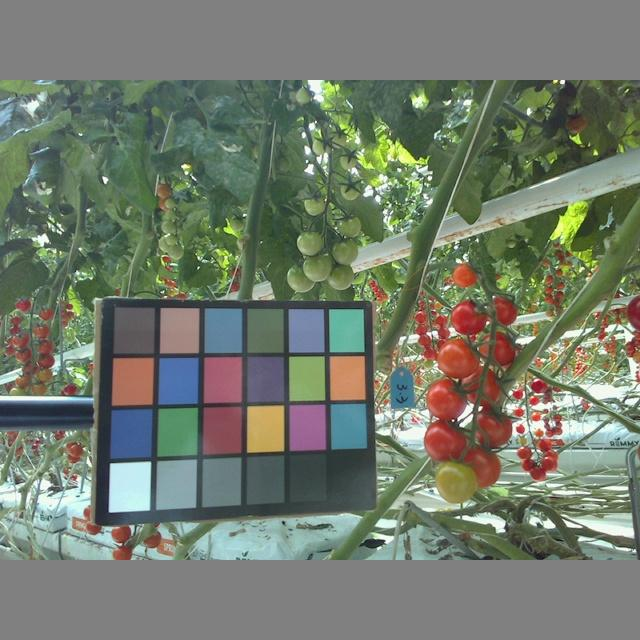green: (435, 461, 478, 506), (287, 264, 319, 293), (329, 239, 360, 267), (325, 262, 353, 292), (302, 254, 331, 281), (296, 230, 325, 256), (335, 212, 363, 237), (304, 192, 325, 216), (338, 180, 361, 200), (340, 151, 358, 172)
pink: (456, 445, 500, 489), (435, 338, 480, 378), (470, 409, 512, 450), (450, 263, 477, 288)
red: (421, 419, 466, 463), (425, 377, 465, 420), (463, 366, 501, 409), (477, 330, 515, 368), (449, 300, 486, 338), (486, 296, 517, 329), (629, 295, 640, 327)
